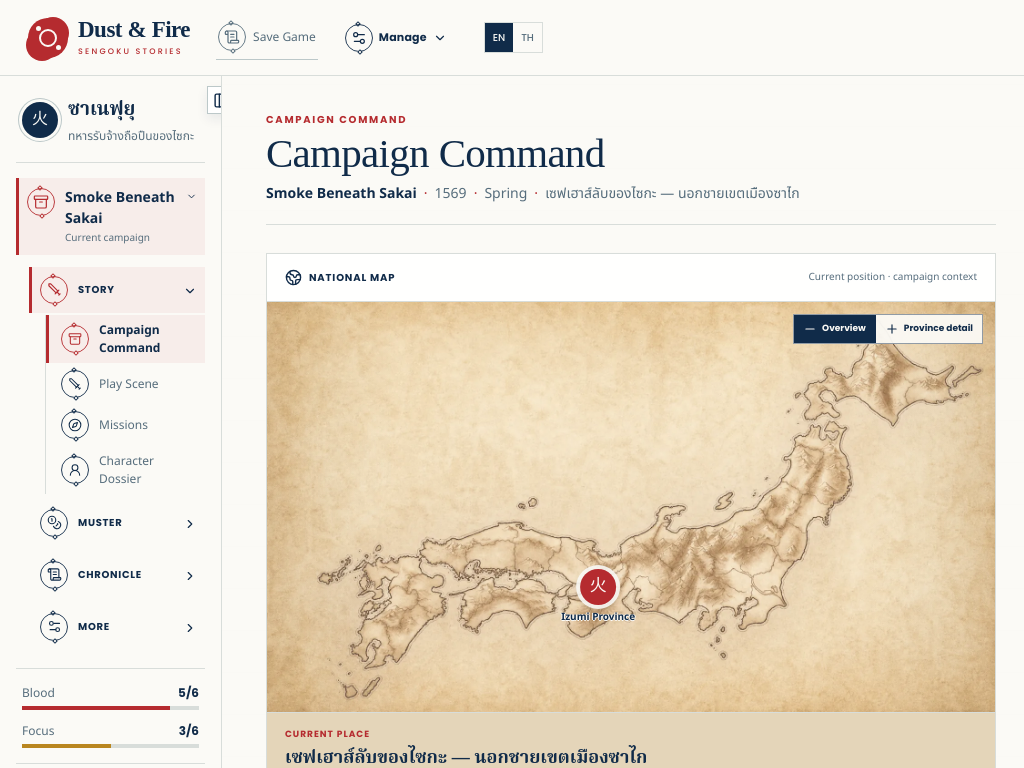
Test: UI Preview click flow › restores a manual leaf through More without weakening the Play or Chronicle path
Click the button "More". click: {"x": 117, "y": 626}
box: [29,604,205,650]
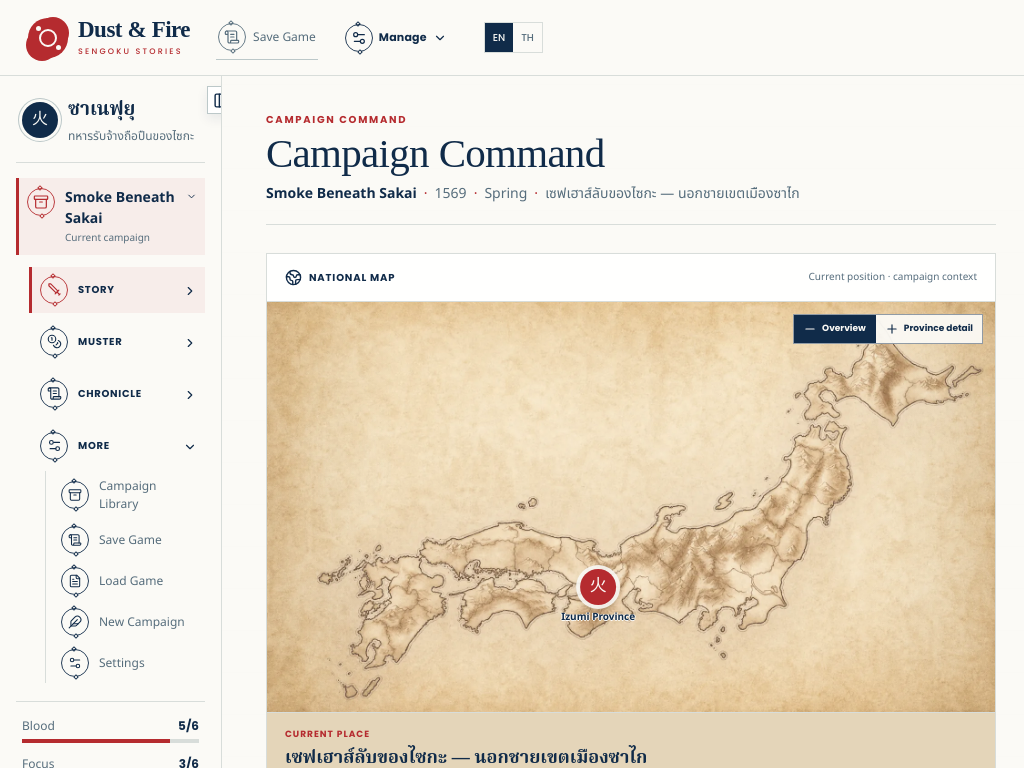
Click the button "Load Game". click: {"x": 126, "y": 580}
box: [46,560,205,600]
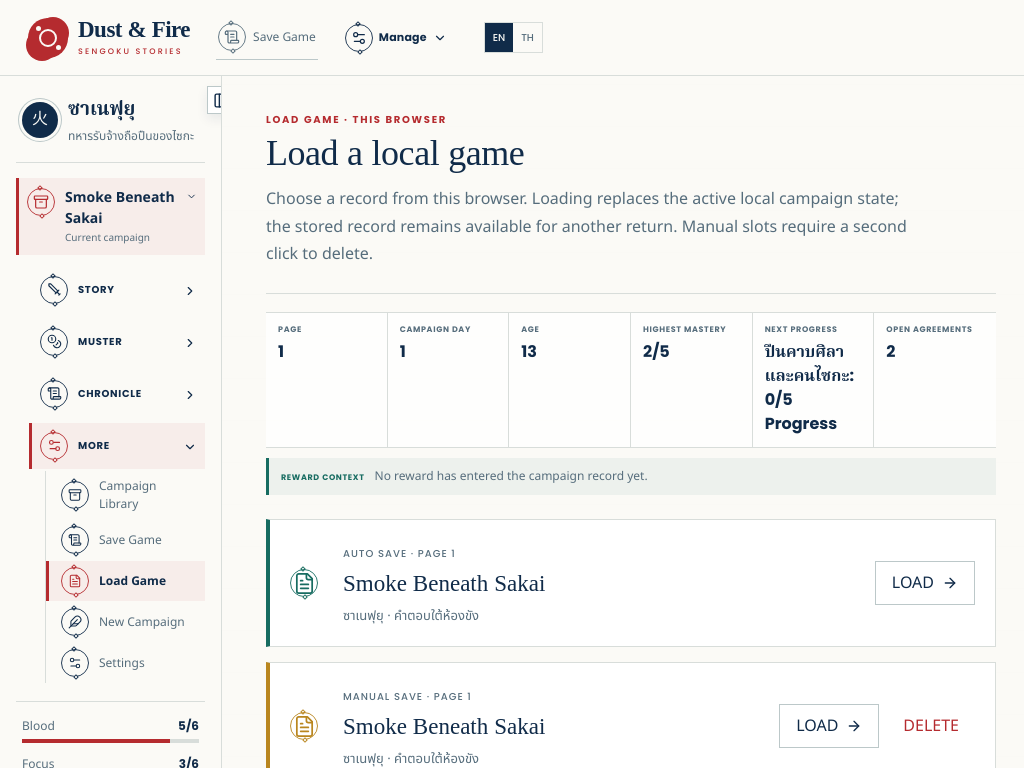
Click the 2nd button "LOAD". click: {"x": 829, "y": 726}
box: [779,704,879,748]
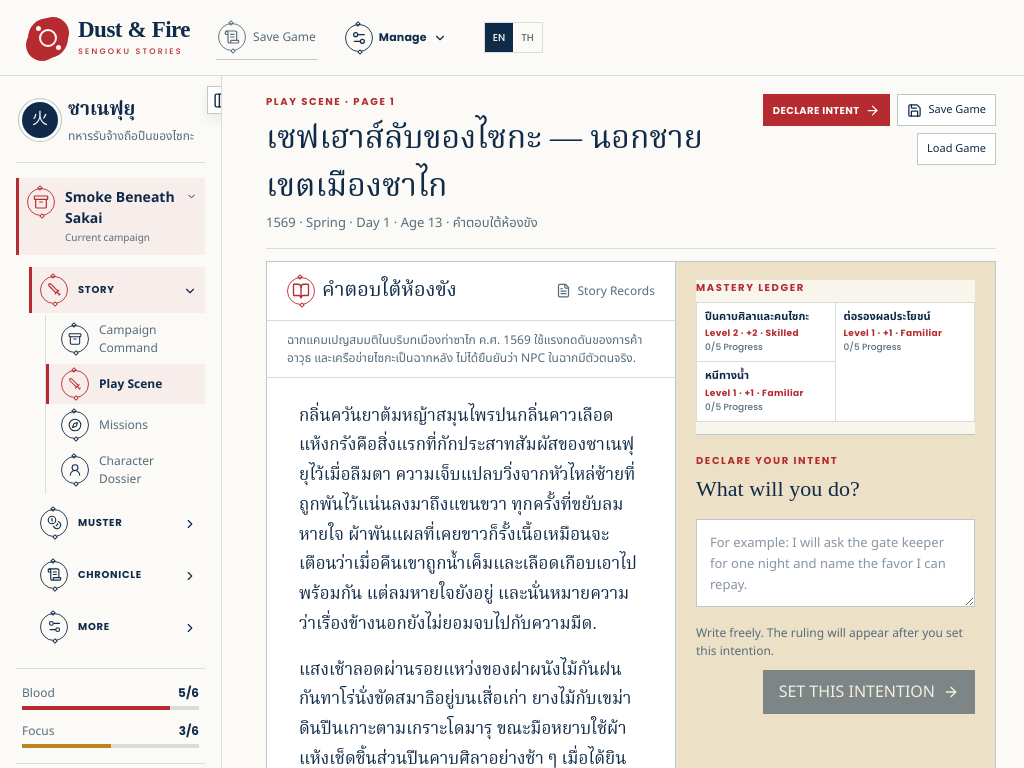
Expected: the text "PLAY SCENE · PAGE 1" is shown, [266,94,396,109]
Click the button "Chronicle". click: {"x": 117, "y": 574}
box: [29,552,205,598]
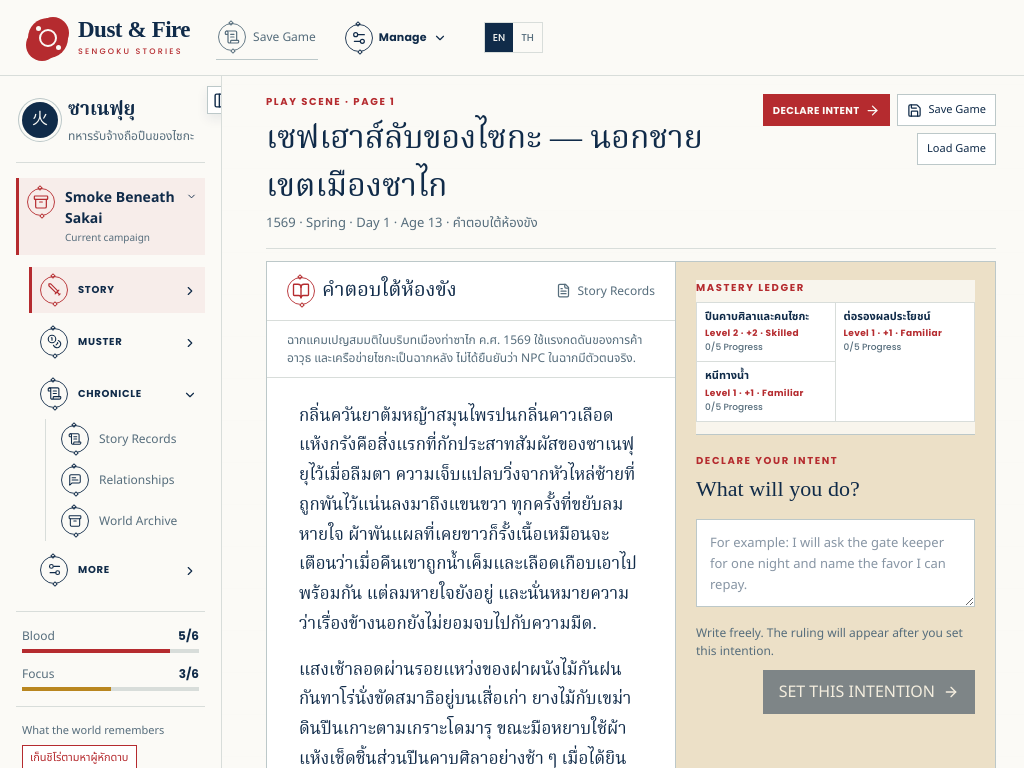
Click the button "Story Records" below "ทหารรับจ้างถือปืนของไซกะ". click: {"x": 126, "y": 438}
box: [46,418,205,458]
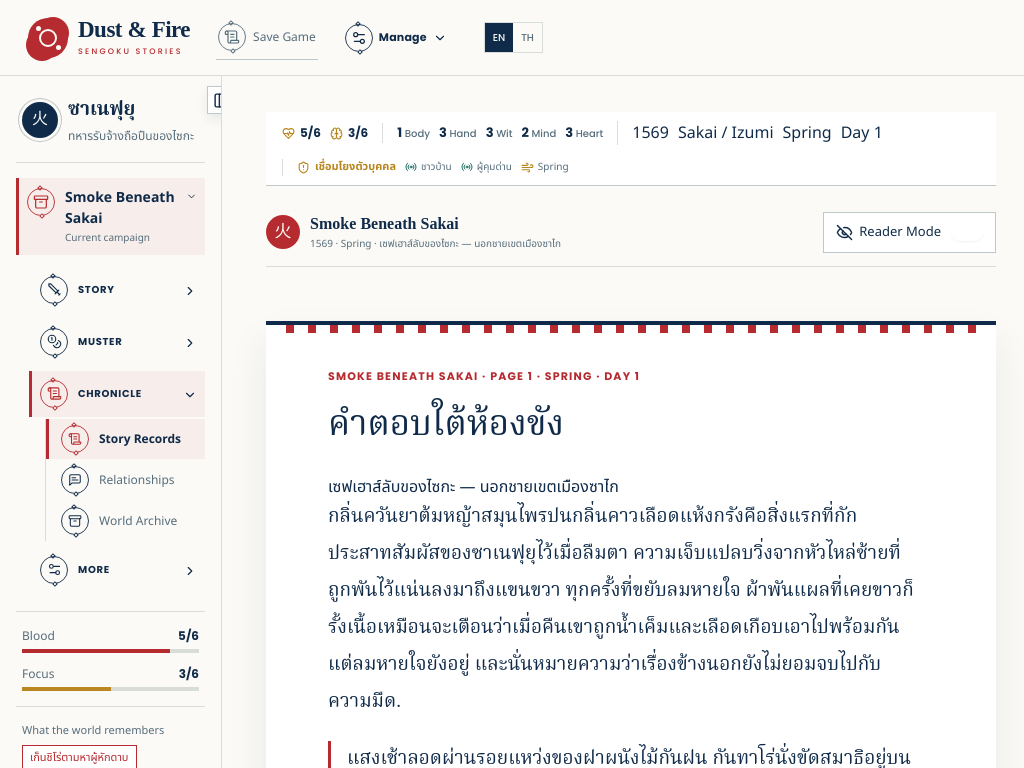
Expected: the heading "คำตอบใต้ห้องขัง" is shown, [328,398,564,454]
